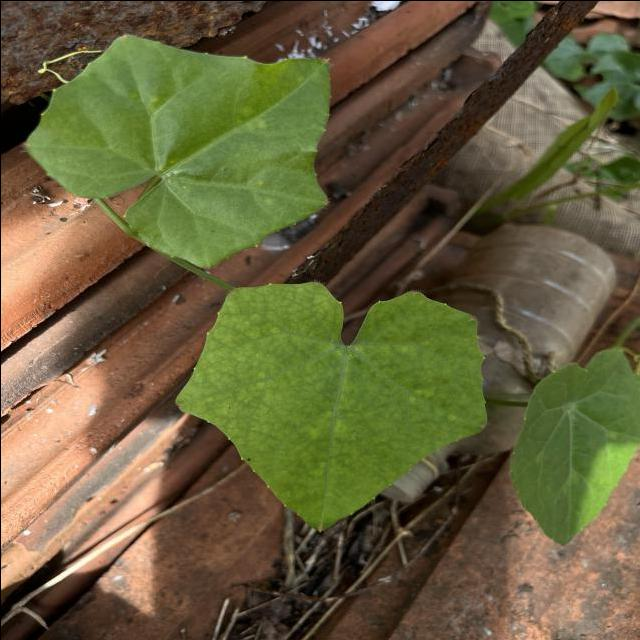Coccinia grandis: (172, 278, 488, 534), (19, 32, 333, 272)
